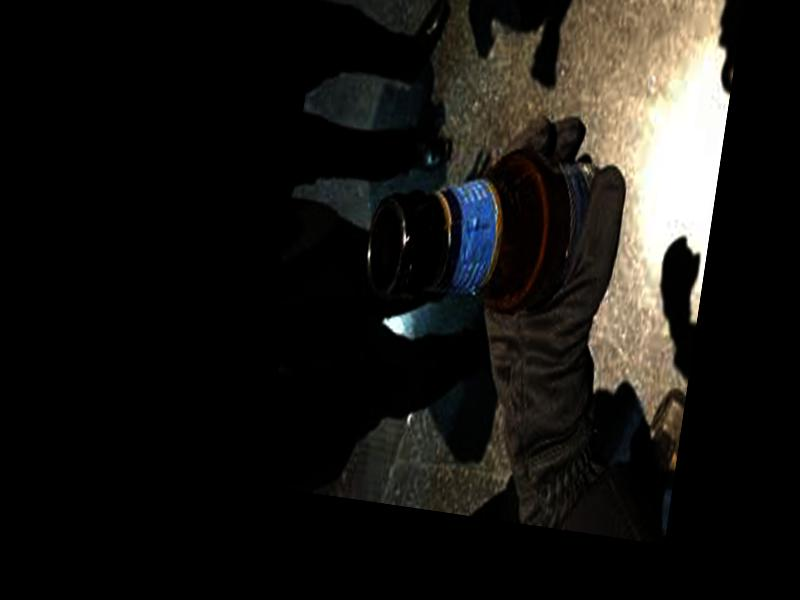Beer: (359, 121, 616, 332)
